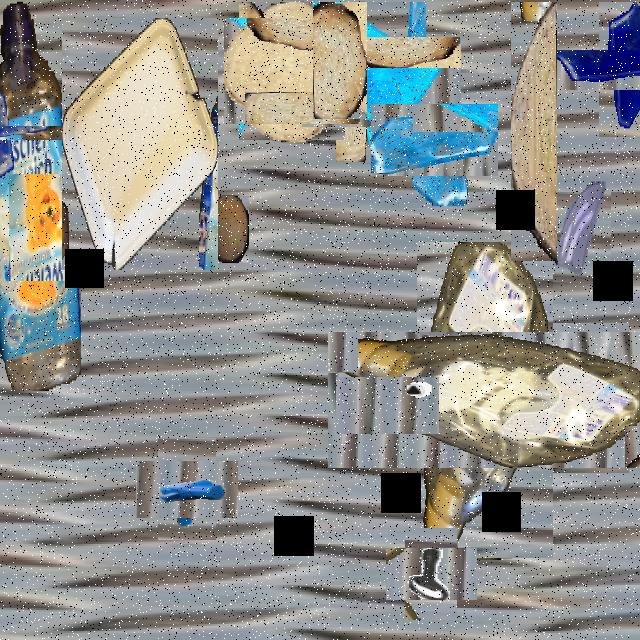glass: (318, 19, 444, 144), (528, 339, 640, 456), (384, 90, 484, 190), (553, 180, 611, 282), (575, 25, 640, 113), (0, 100, 39, 166)
metal: (0, 185, 80, 269), (348, 365, 428, 446), (147, 449, 227, 529), (395, 538, 467, 610)
plastic: (372, 287, 598, 513), (62, 18, 218, 270), (0, 2, 80, 389)
wood: (231, 10, 353, 132), (511, 2, 557, 261), (313, 2, 367, 119), (211, 196, 249, 263)
